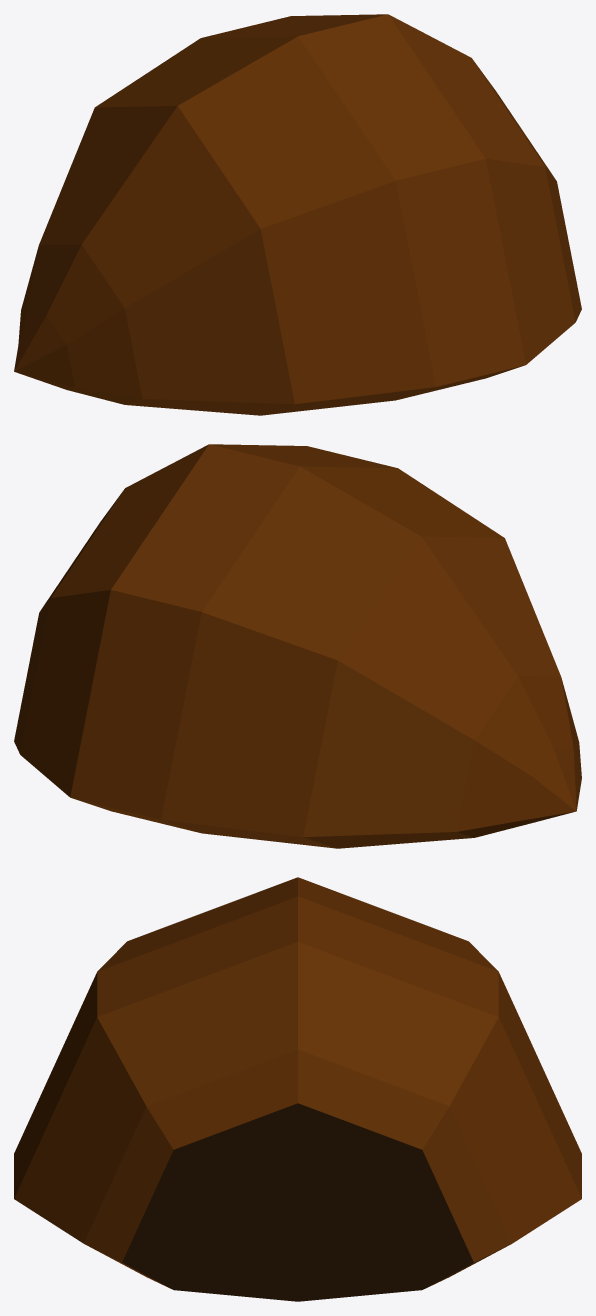
File: chestnut01.gltf
3 renders of one model, top to bottom at view 1: azimuth 30°, elevation 25°; view 2: azimuth 150°, elevation 25°; view 3: azimuth 270°, elevation 25°, orthographic. The views are drawn at different scales.
Parts seen in each view (by area): view 1: Cylinder.001; view 2: Cylinder.001; view 3: Cylinder.001.
Boxes of the visible parts, box(x1,y1,x2,y2) form: Cylinder.001: box(14, 14, 581, 415); Cylinder.001: box(14, 444, 581, 848); Cylinder.001: box(14, 877, 581, 1301).
Size of the model in its own units: 0.0271 by 0.0168 by 0.0271.
Materials: 1 (1 with a texture image).
